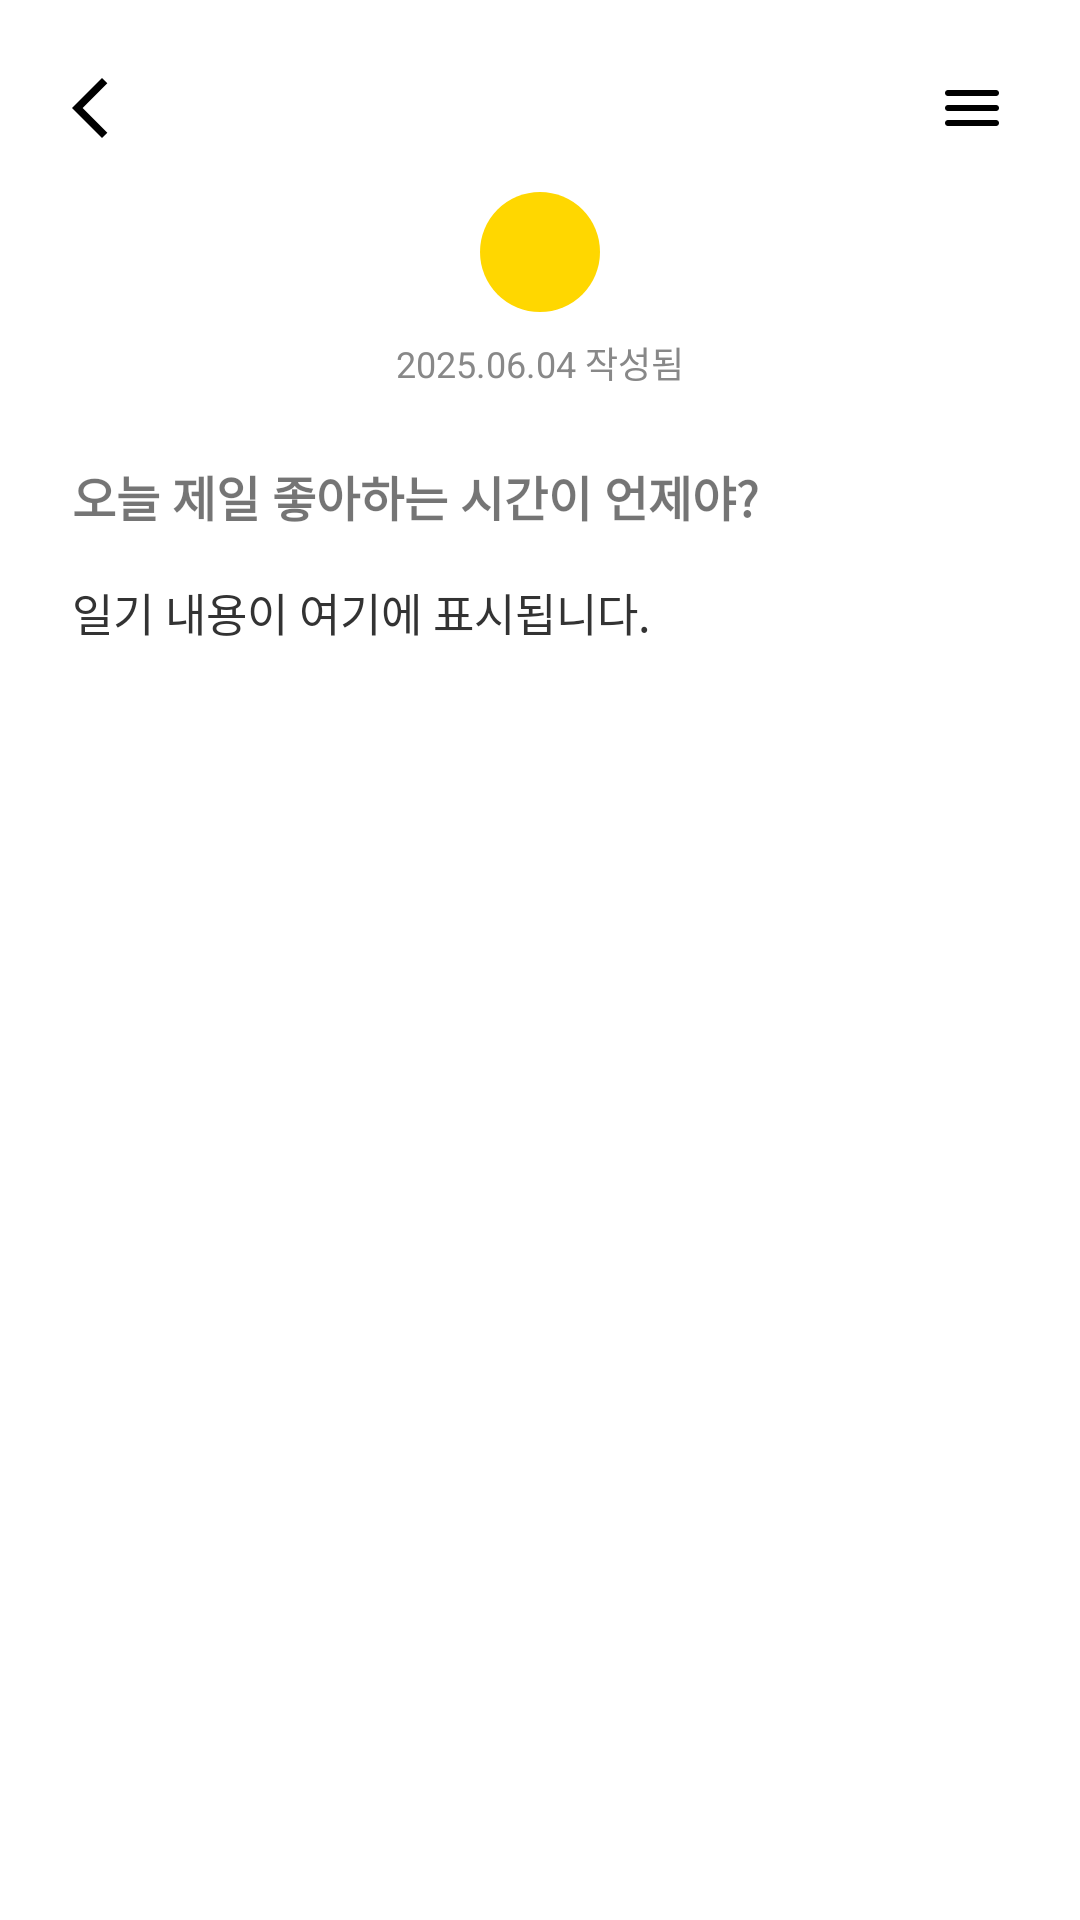

Screen size 1080*1920. Icon name, then its box in pixels as BBox(x1, y1, x2, y2):
뒤로가기: BBox(72, 78, 107, 138)
메뉴: BBox(945, 90, 999, 126)
